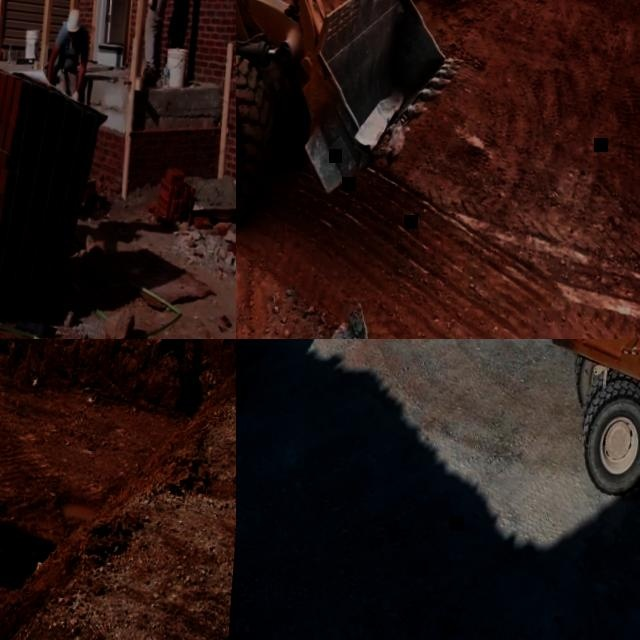Hardhat: (64, 5, 82, 31)
NO-Mask: (67, 35, 75, 46)
NO-Safety Vest: (56, 27, 86, 77)
Person: (44, 3, 93, 104), (135, 0, 176, 84)
machinery: (236, 0, 465, 242), (511, 339, 640, 513)
